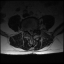CCS_normal: (30, 28, 32, 36)
LFS_severe_stenosis: (33, 26, 35, 31)
LLS_stenosis: (32, 27, 33, 34)
RFS_stenosis: (26, 27, 28, 33)
RLS_normal: (28, 28, 30, 34)
